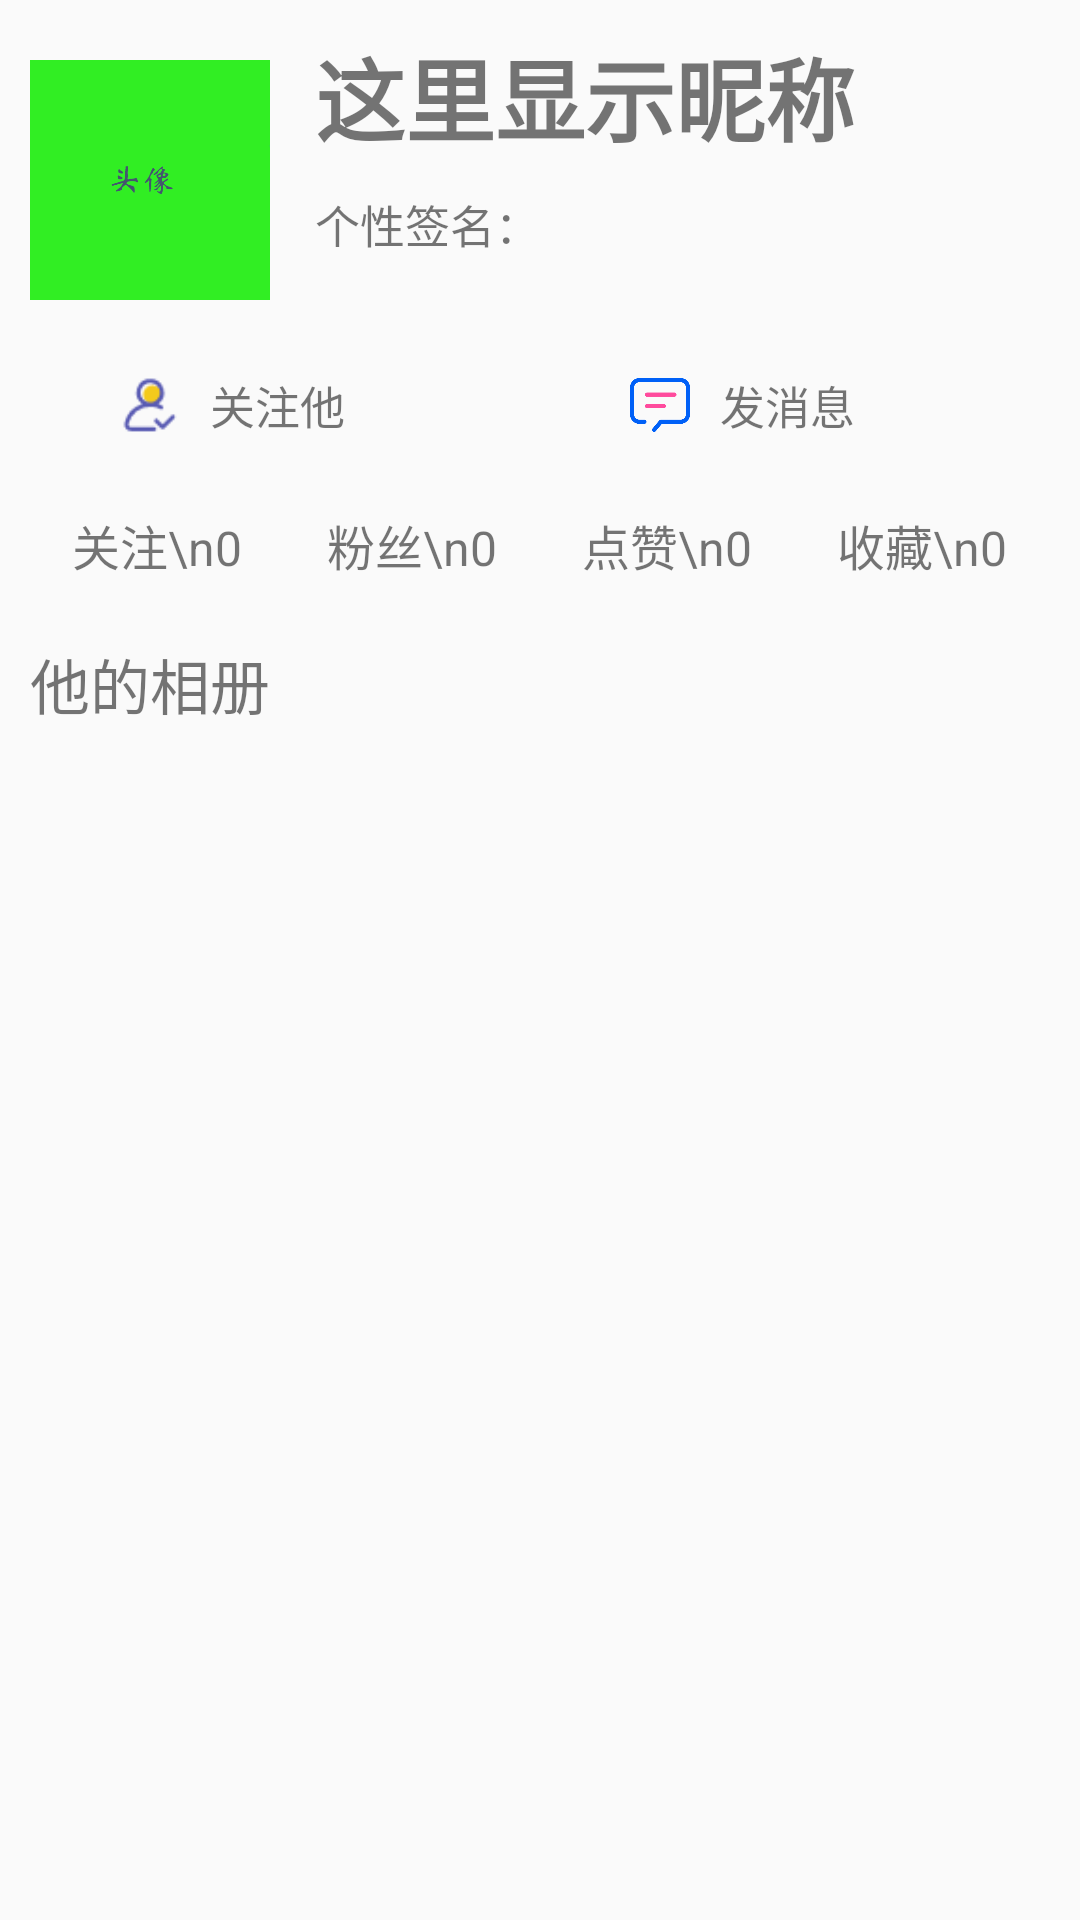

Named icons in this screenshot (1080 × 1920) and their bounding boxes, (x1, y1, x2, y2):
sendmessage: (630, 378, 690, 432)
subscribe: (123, 378, 175, 432)
